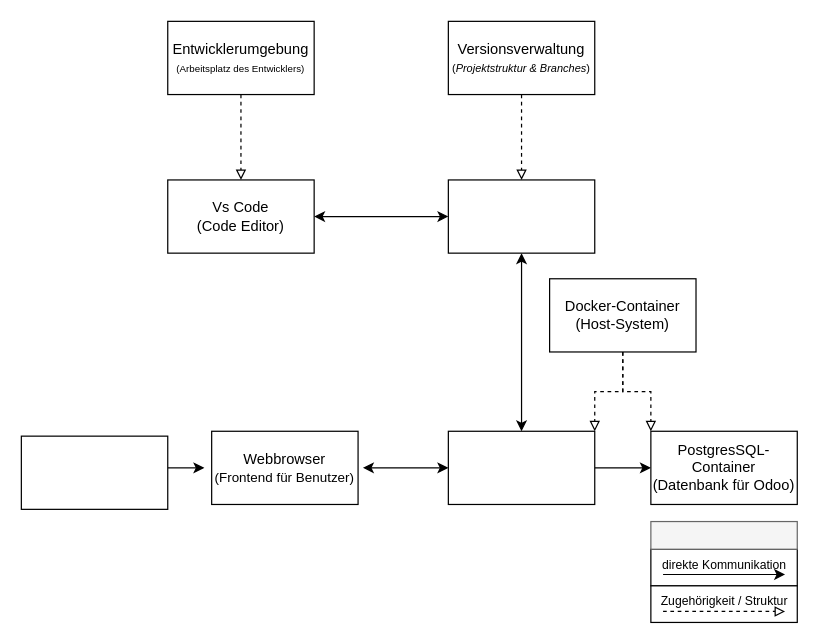
This 825x644 diagram has some shape labels left out. Each missing label, with the box of its shape:
Admin (Nutzer / Sachbearbeiter): (20, 435, 168, 509)
Gitlab („Codeverwaltung, CI/CD, Merge Requests“ ): (447, 179, 595, 253)
Legende: (650, 520, 797, 549)
Odoo-Container (Backend + Benutzeroberfläche): (447, 430, 595, 504)
